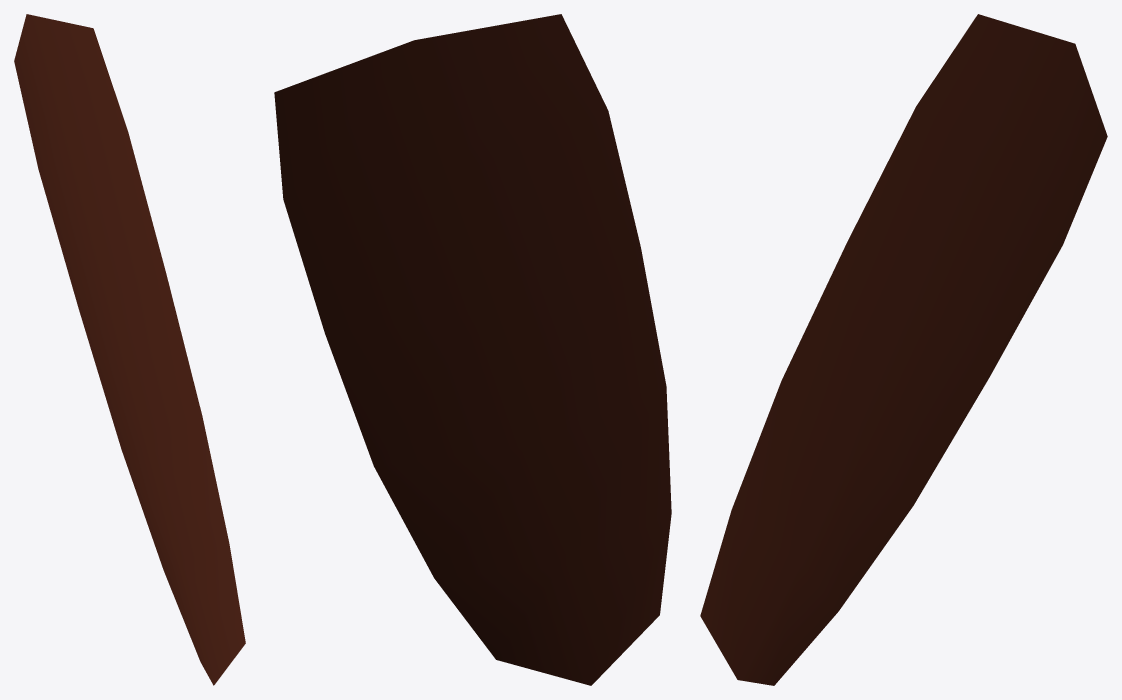
Rendered from hen_feather_tail_secondary_013.obj.
The picture shows the model from 3 angles, left to right: view 1: azimuth 30°, elevation 25°; view 2: azimuth 150°, elevation 25°; view 3: azimuth 270°, elevation 25°; orthographic projection. The views are drawn at different scales.
Parts seen in each view (by area): view 1: feather_tail_secondary_013; view 2: feather_tail_secondary_013; view 3: feather_tail_secondary_013.
Boxes of the visible parts, <box> form: feather_tail_secondary_013: <box>14,14,245,685</box>; feather_tail_secondary_013: <box>274,14,671,685</box>; feather_tail_secondary_013: <box>700,14,1107,685</box>.
Bounding box in the file's own units: 0.0228 × 0.0757 × 0.0452.
